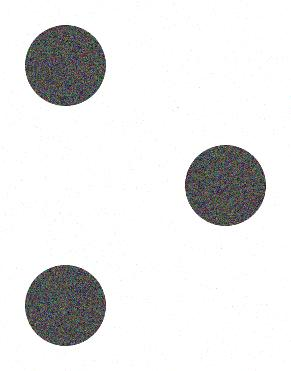O: (18, 19, 271, 350)
